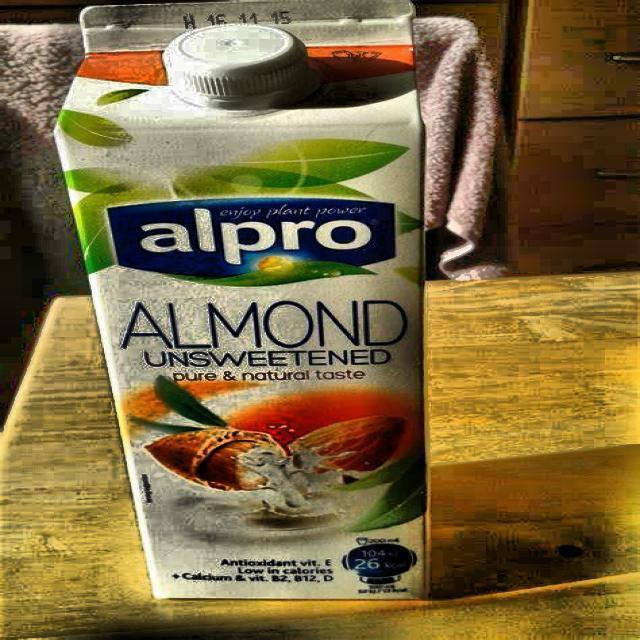cardboard: (1, 269, 638, 638)
